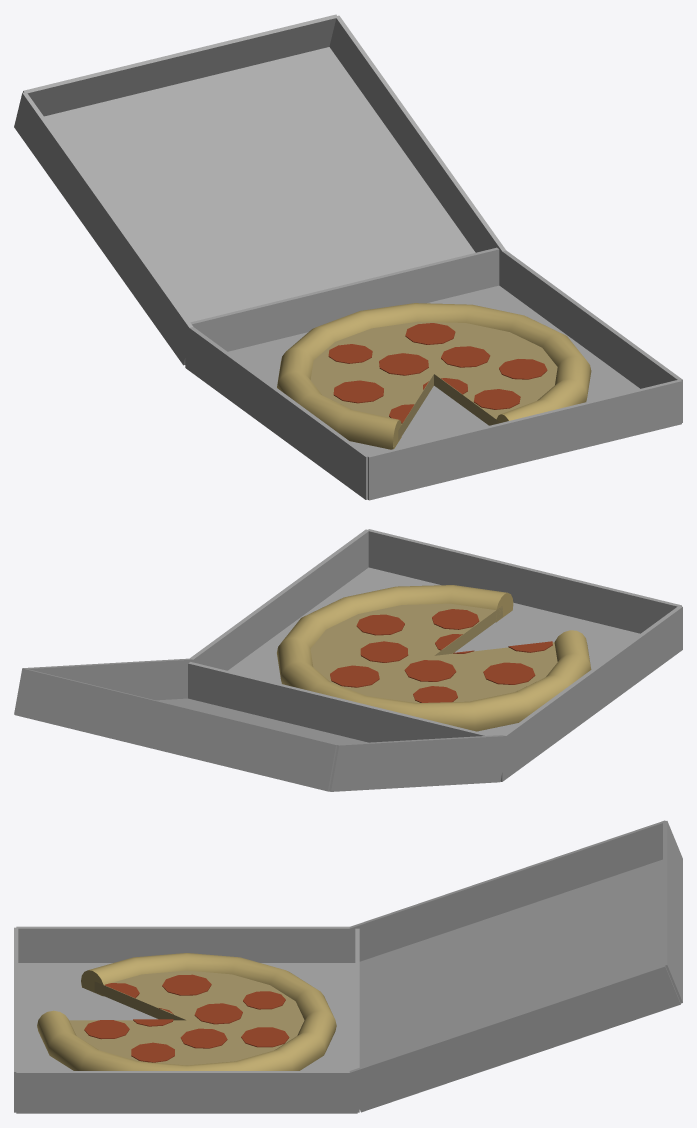
The model's file is pizza.fbx.
3 renders of one model, top to bottom at view 1: azimuth 30°, elevation 25°; view 2: azimuth 150°, elevation 25°; view 3: azimuth 270°, elevation 25°, orthographic. The views are drawn at different scales.
Visible parts, largest first — view 1: pCube16, pCube6, polySurface6, polySurface3, pCube3, pCube5, pCube7, pCube4, pCylinder2, pCylinder6, pCylinder8, pCylinder3 (+2 smaller); view 2: pCube16, polySurface6, polySurface3, pCube6, pCube3, pCube5, pCube7, pCube4, pCylinder2, pCylinder6, pCylinder8, pCylinder3 (+3 smaller); view 3: pCube16, pCube4, polySurface6, pCube5, polySurface3, pCube7, pCube6, pCylinder2, pCylinder6, pCylinder8, pCylinder3, pCube3 (+3 smaller).
Boxes of the visible parts, x1,y1,x2,y2 form: pCube16: (14,14,506,365); pCube6: (368,379,681,500); polySurface6: (277,303,591,449); polySurface3: (310,321,557,441); pCube3: (190,247,499,351); pCube5: (185,325,369,499); pCube7: (228,285,639,454); pCube4: (499,250,682,422); pCylinder2: (333,380,383,403); pCylinder6: (379,353,428,375); pCylinder8: (405,323,455,344); pCylinder3: (441,346,490,367); pCube16: (14,658,508,791); polySurface6: (277,585,591,731); polySurface3: (310,603,557,702); pCube6: (368,529,681,633); pCube3: (188,662,492,742); pCube5: (500,606,682,781); pCube7: (228,567,640,735); pCube4: (190,529,369,670); pCylinder2: (483,662,535,684); pCylinder6: (404,660,456,681); pCylinder8: (330,665,379,687); pCylinder3: (360,641,408,662); pCube16: (346,820,682,1112); pCube4: (16,1071,357,1113); polySurface6: (37,953,336,1070); pCube5: (16,926,355,962); polySurface3: (69,970,304,1065); pCube7: (18,963,355,1070); pCube6: (14,927,18,1112); pCylinder2: (162,974,211,995); pCylinder6: (194,1003,242,1024); pCylinder8: (241,1027,289,1047); pCylinder3: (180,1028,227,1048); pCube3: (355,928,359,1112).
Bounding box in the file's own units: 19.25 × 9.08 × 37.24.
